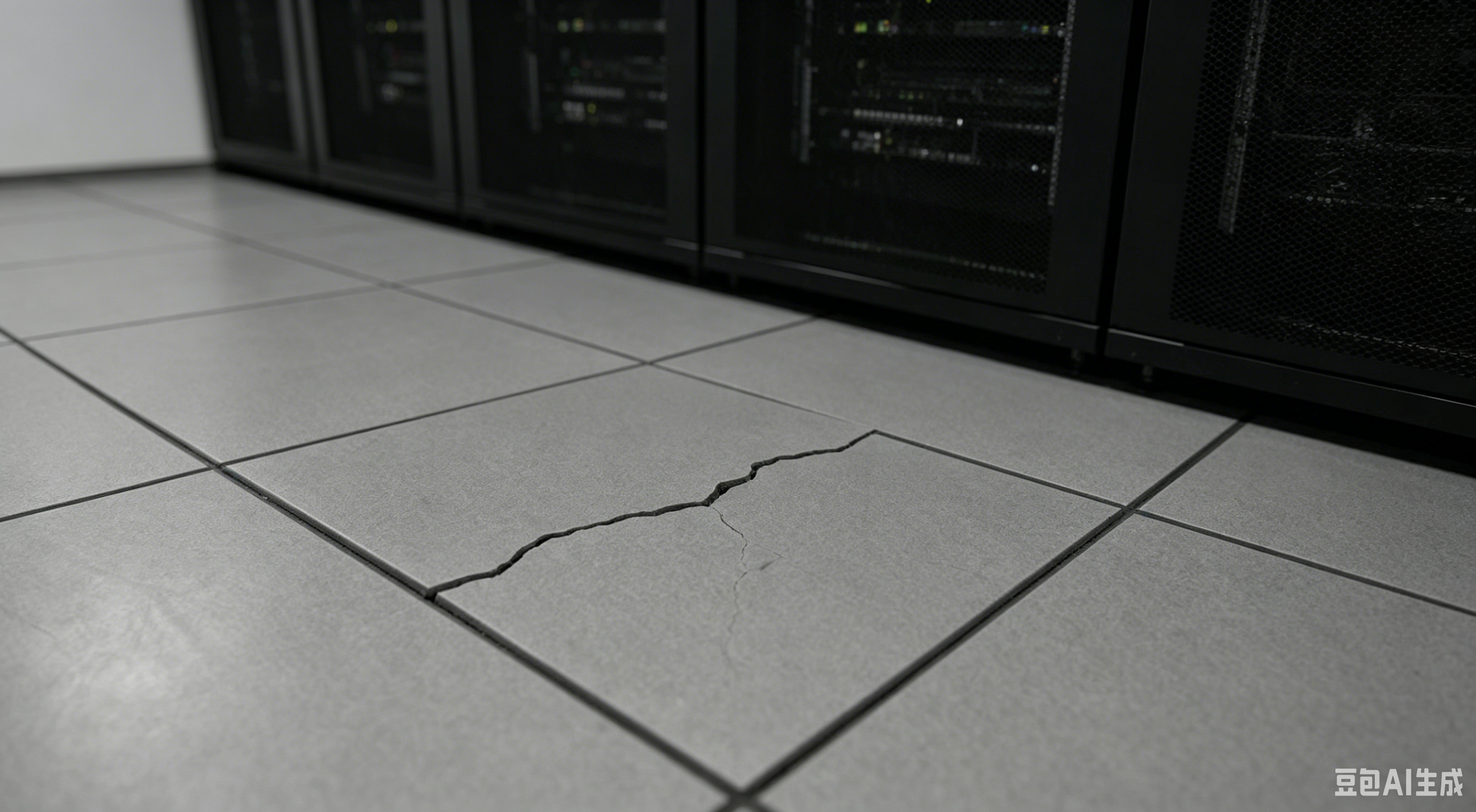floor_defect: (381, 499, 712, 600), (643, 407, 908, 518)
